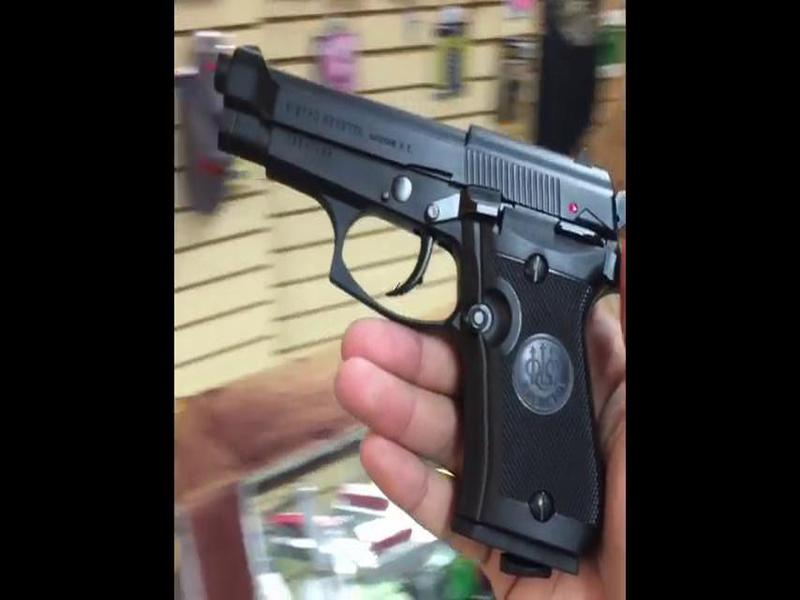Pistola: (190, 41, 625, 574)
